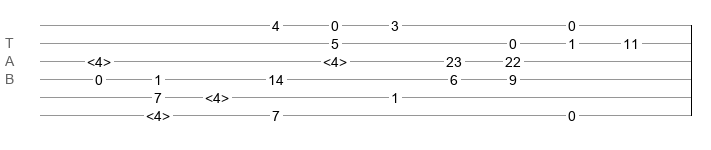0: (95, 72, 103, 82), (331, 18, 339, 28), (509, 36, 517, 46), (568, 108, 576, 118), (568, 18, 576, 28)
1: (154, 72, 162, 82), (391, 90, 399, 100), (568, 36, 576, 46)
11: (623, 36, 639, 46)
14: (268, 72, 284, 82)
22: (505, 54, 521, 64)
23: (446, 54, 462, 64)
3: (391, 18, 399, 28)
4: (272, 18, 280, 28)
5: (331, 36, 339, 46)
6: (450, 72, 458, 82)
7: (154, 90, 162, 100), (272, 108, 280, 118)
9: (509, 72, 517, 82)
harmonic: (87, 54, 111, 64), (146, 108, 170, 118), (205, 90, 229, 100), (323, 54, 347, 64)
